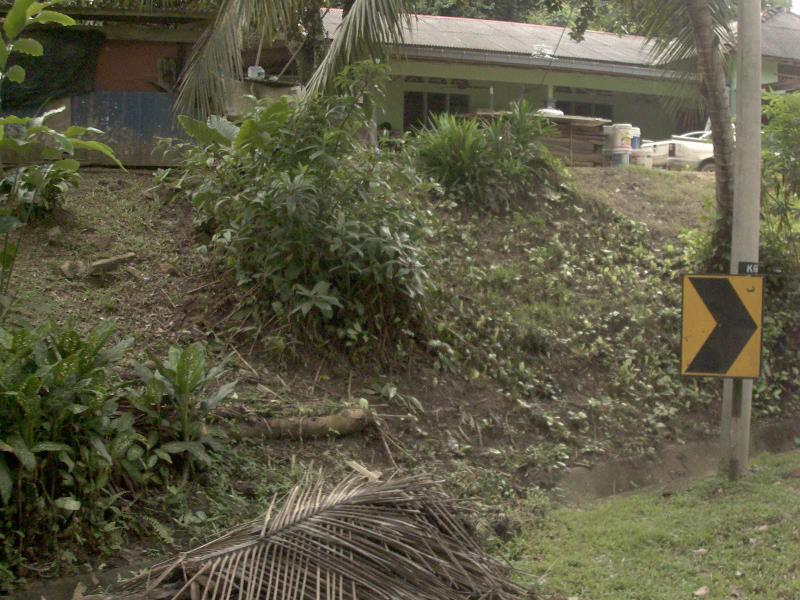traffic_sign: (667, 260, 774, 396)
